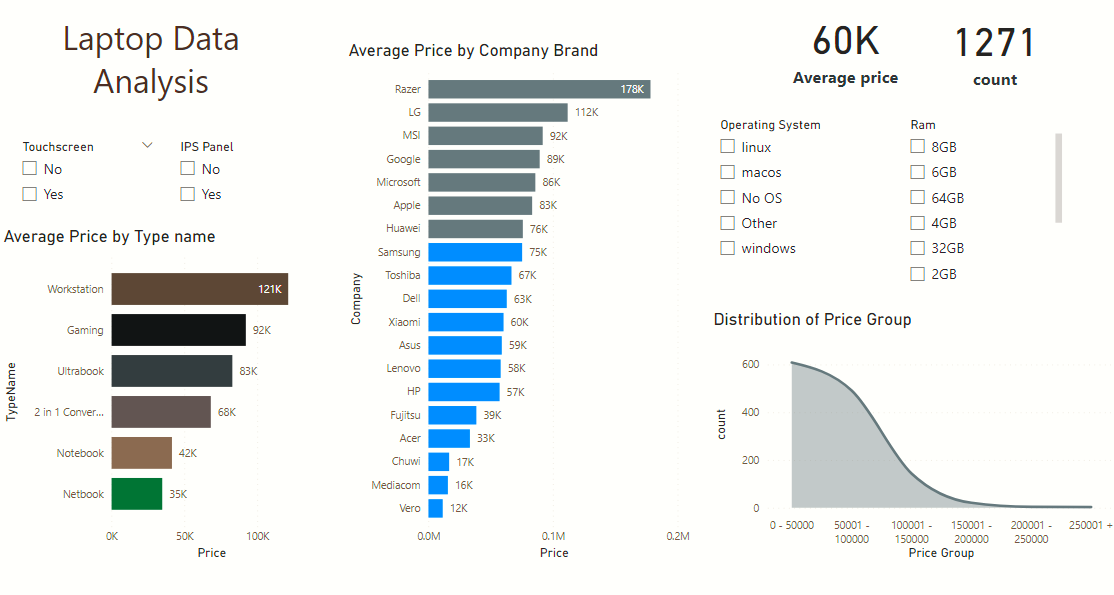

This screenshot's page, from the dashboard's own definition file:
{"tool":"powerbi","page":{"name":"Price Analysis","canvas":[1280,720],"ordinal":0},"visuals":[{"type":"areaChart","title":"Distribution of Price Group","fields":{"Category":["laptop_data.Price Group"],"Y":["laptop_data.count"]},"box":[808.9,382.8,471.6,290.5],"z":1000},{"type":"clusteredBarChart","title":"Average Price by Company Brand","fields":{"Category":["laptops.Company"],"Y":["laptopdata.Average price"]},"box":[393,76.3,402.2,597],"z":2000},{"type":"clusteredBarChart","title":"Average Price by Type name","fields":{"Category":["laptops.TypeName"],"Y":["laptopdata.Average price"]},"box":[0,288.2,375.9,385.1],"z":3000},{"type":"textbox","box":[25.1,42.2,296.2,117.3],"z":4000},{"type":"slicer","fields":{"Values":["laptop_data.IPS Panel"]},"box":[193.7,184.6,174.3,92.3],"z":5000},{"type":"slicer","fields":{"Values":["laptop_data.is_touchscreen"]},"box":[13.7,184.6,174.3,92.3],"z":6000},{"type":"slicer","fields":{"Values":["laptop_data.Operating System"]},"box":[808.9,159.5,174.3,200.5],"z":7000},{"type":"slicer","fields":{"Values":["laptop_data.Ram"]},"box":[1025.3,159.5,191.4,200.5],"z":8000},{"type":"card","fields":{"Values":["laptop_data.count"]},"box":[1058.4,27.3,152.7,117.3],"z":9000},{"type":"card","fields":{"Values":["laptop_data.Average price"]},"box":[884.1,22.8,160.6,121.9],"z":10000}]}

Visuals, with their boxes on the page's 1280x720 design canvas (x1, y1, x2, y2). These are canvas units, not pixel positions in the 1114x595 screenshot, which may show the page scaled, cropped or inside an application window:
"Distribution of Price Group" areaChart: <bbox>809, 383, 1280, 673</bbox>
"Average Price by Company Brand" clusteredBarChart: <bbox>393, 76, 795, 673</bbox>
"Average Price by Type name" clusteredBarChart: <bbox>0, 288, 376, 673</bbox>
textbox: <bbox>25, 42, 321, 160</bbox>
slicer - laptop_data.IPS Panel: <bbox>194, 185, 368, 277</bbox>
slicer - laptop_data.is_touchscreen: <bbox>14, 185, 188, 277</bbox>
slicer - laptop_data.Operating System: <bbox>809, 160, 983, 360</bbox>
slicer - laptop_data.Ram: <bbox>1025, 160, 1217, 360</bbox>
card - laptop_data.count: <bbox>1058, 27, 1211, 145</bbox>
card - laptop_data.Average price: <bbox>884, 23, 1045, 145</bbox>
